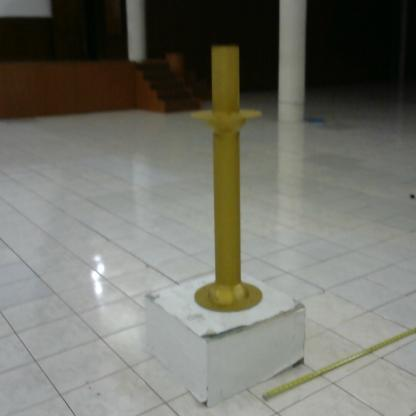pole: (186, 37, 270, 320)
